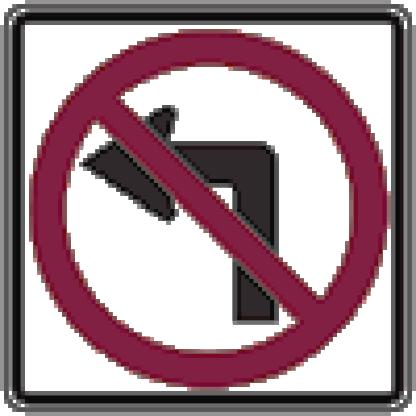No left turn: (18, 16, 395, 396)
